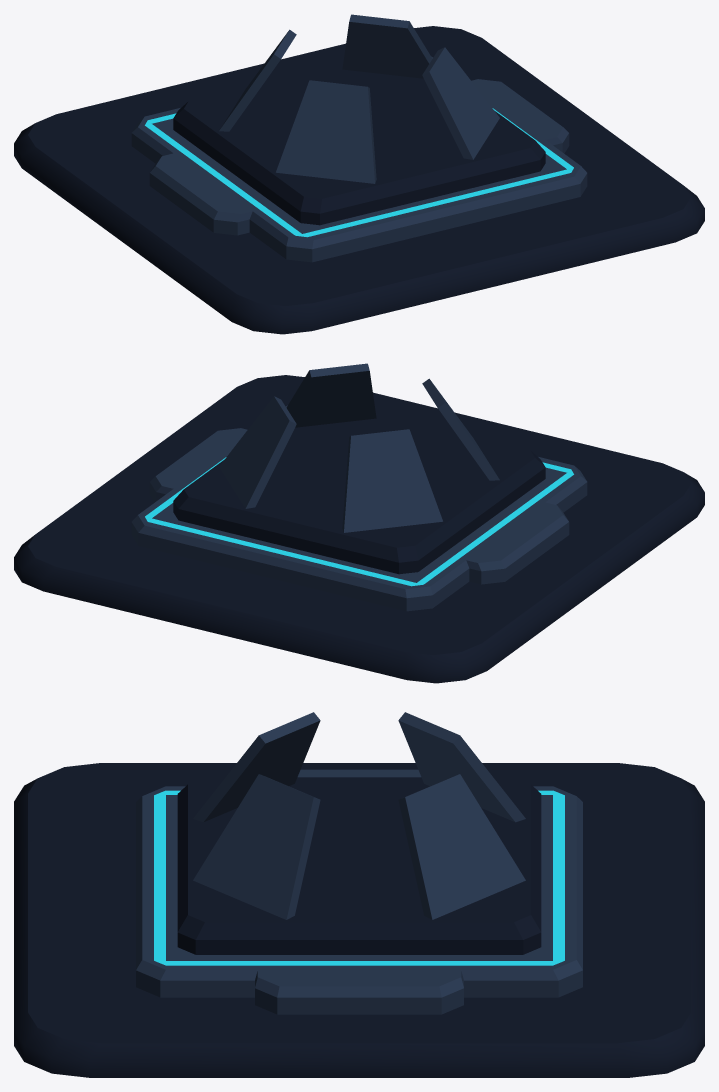
Rendered from StartingNode.fbx.
3 views of the same model, one above another, from view 1: azimuth 30°, elevation 25°; view 2: azimuth 150°, elevation 25°; view 3: azimuth 270°, elevation 25° (orthographic). The views are drawn at different scales.
Visible parts, largest first — view 1: StartingNode; view 2: StartingNode; view 3: StartingNode.
Boxes of the visible parts, x1=… form: StartingNode: x1=14, y1=14, x2=704, y2=334; StartingNode: x1=14, y1=363, x2=704, y2=683; StartingNode: x1=14, y1=712, x2=704, y2=1077.
Size of the model in its own units: 201 by 56.83 by 201.
